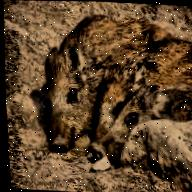boar: (34, 11, 114, 165)
